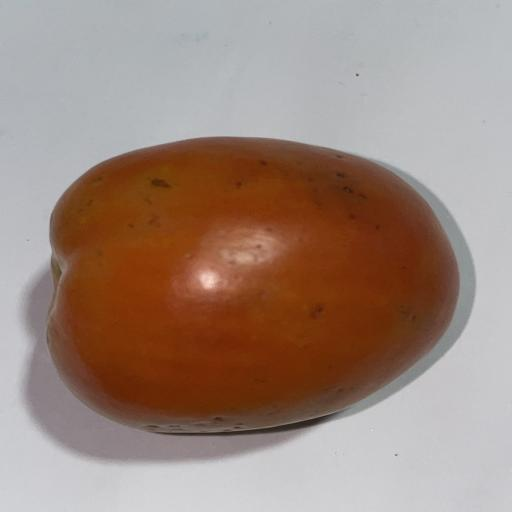ripe: (47, 137, 458, 433)
